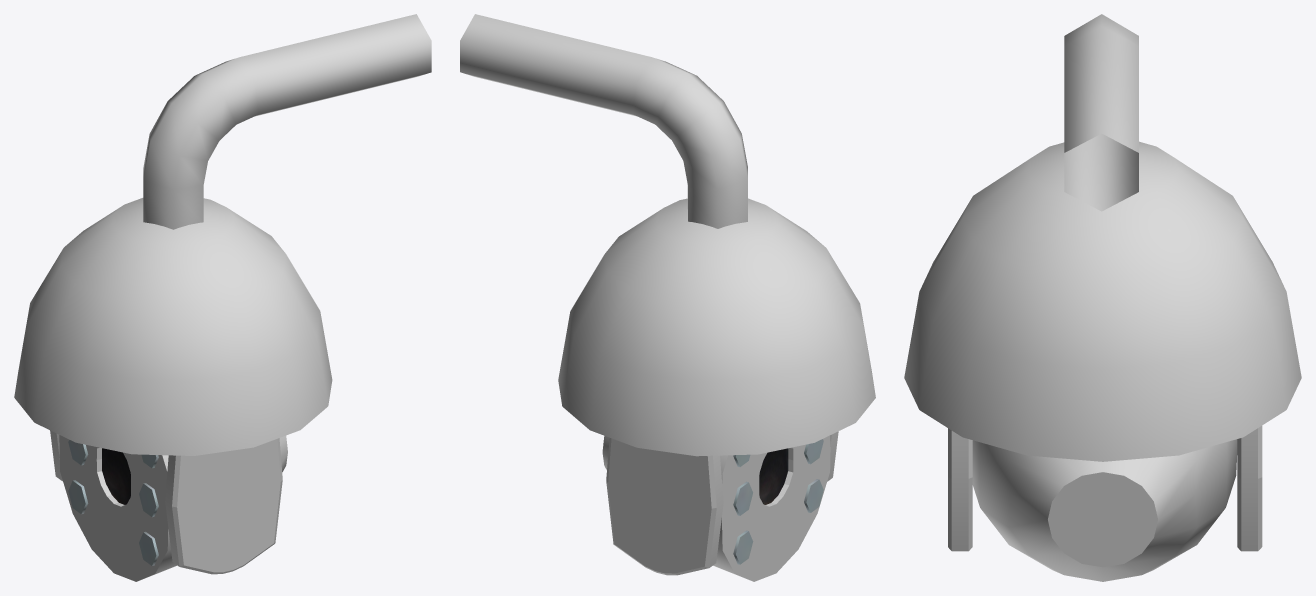
Rendered from sxt02.FBX.
The picture shows the model from 3 angles, left to right: view 1: azimuth 30°, elevation 25°; view 2: azimuth 150°, elevation 25°; view 3: azimuth 270°, elevation 25°; orthographic projection. The views are drawn at different scales.
Visible parts, largest first — view 1: drqsb486; view 2: drqsb486; view 3: drqsb486.
Boxes of the visible parts, <box> form: drqsb486: <box>14,14,431,581</box>; drqsb486: <box>460,14,875,581</box>; drqsb486: <box>904,14,1301,581</box>.
Bounding box in the file's own units: 0.2274 × 0.2766 × 0.1656.
Materials: 3 (3 with a texture image).
